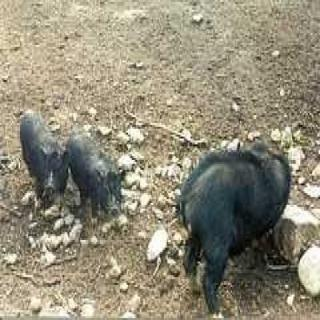Pig: (168, 104, 303, 320), (62, 122, 150, 236), (14, 108, 74, 223)
